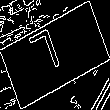L_SE: (35, 26, 75, 84)
